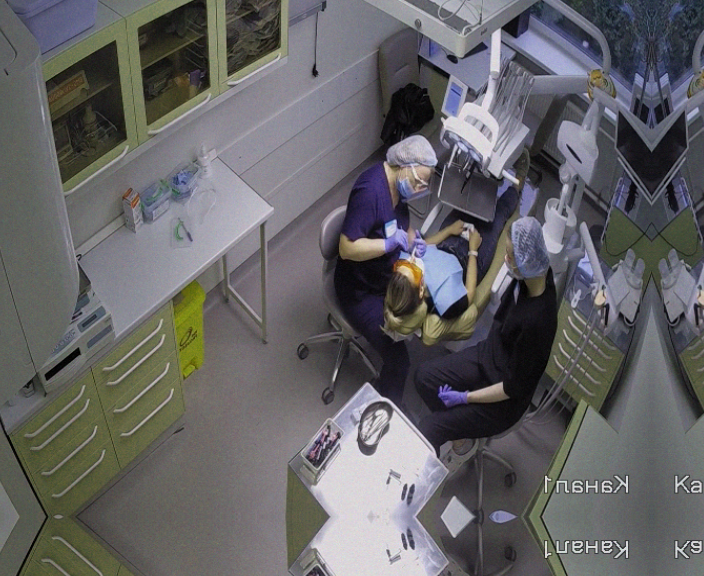Patient: (379, 139, 554, 352)
